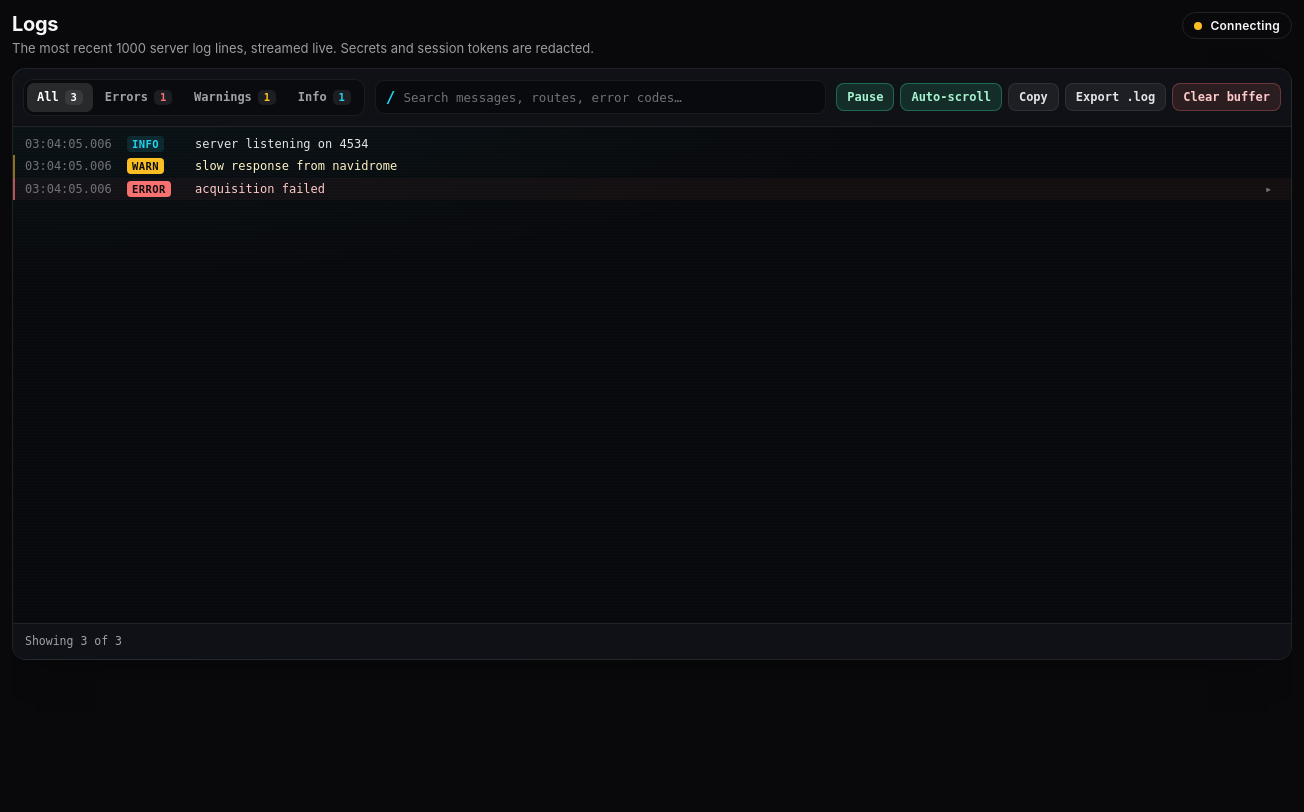
Test case: filters by level and search text
Expected: the text "server listening on 4534" is shown, [195,136,368,150]
Click the button "Errors 1". click: click(138, 97)
box: [95,83,182,112]
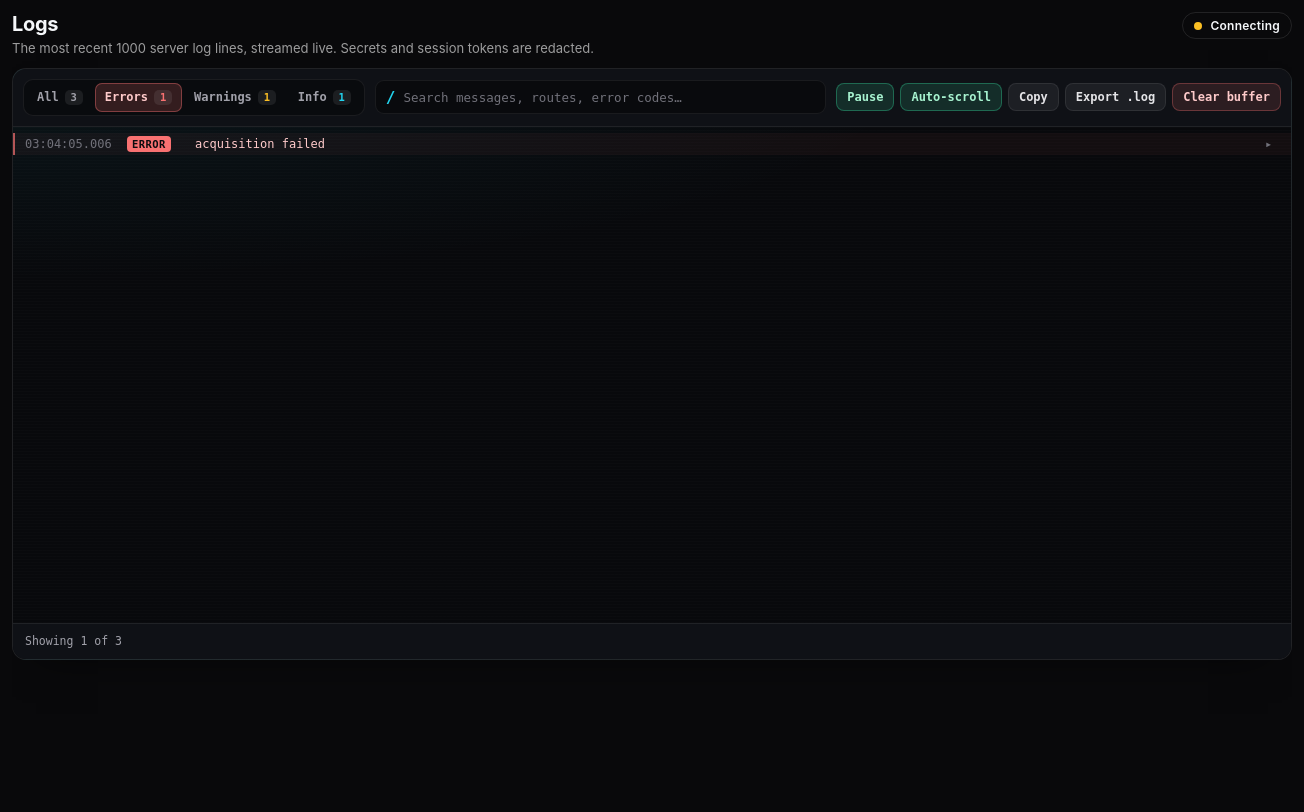
Expected: the text "acquisition failed" is shown, [195,136,325,150]
Result: the number of list items is 1 at [13,132,1291,155]
Click the button "All 3". click: click(60, 97)
box: [27,83,93,112]
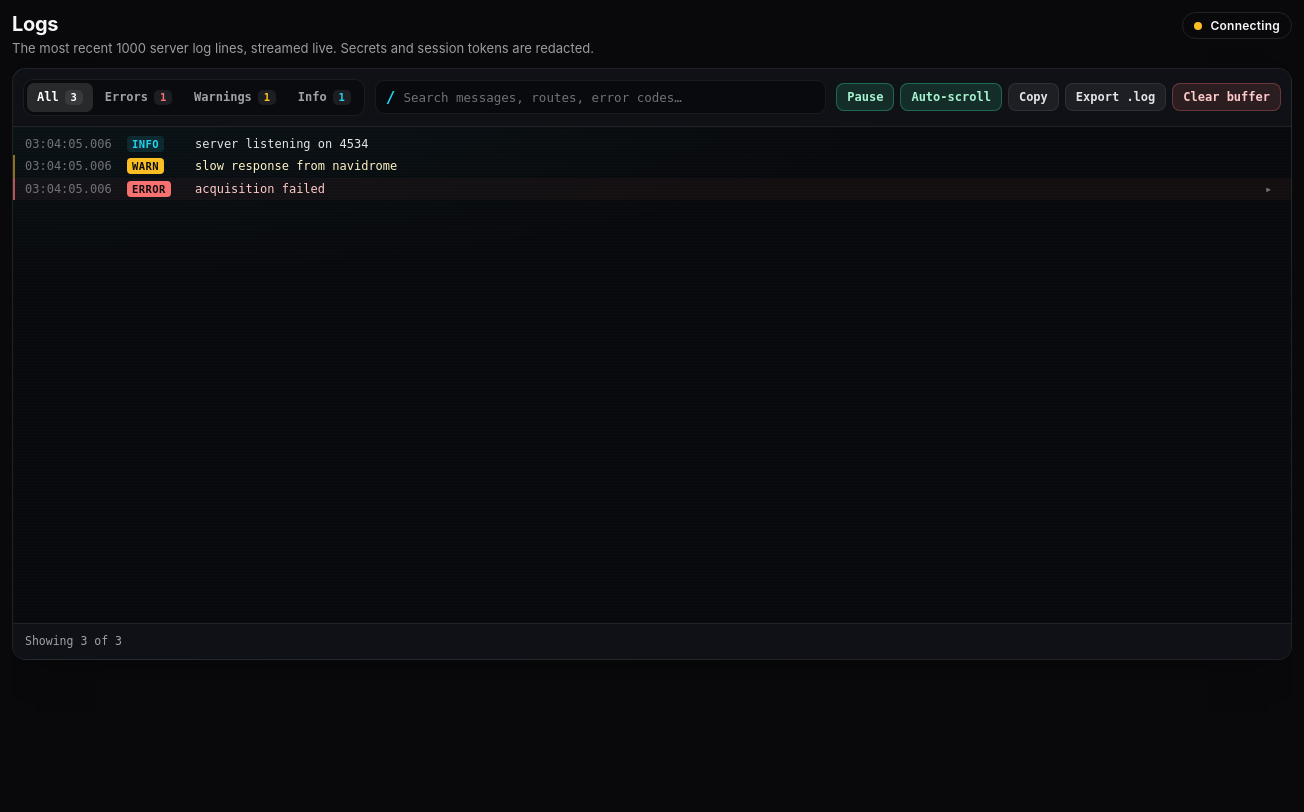
Type "navidrome" into the search field named "Search logs". click: (609, 97)
box: [403,81,815,113]
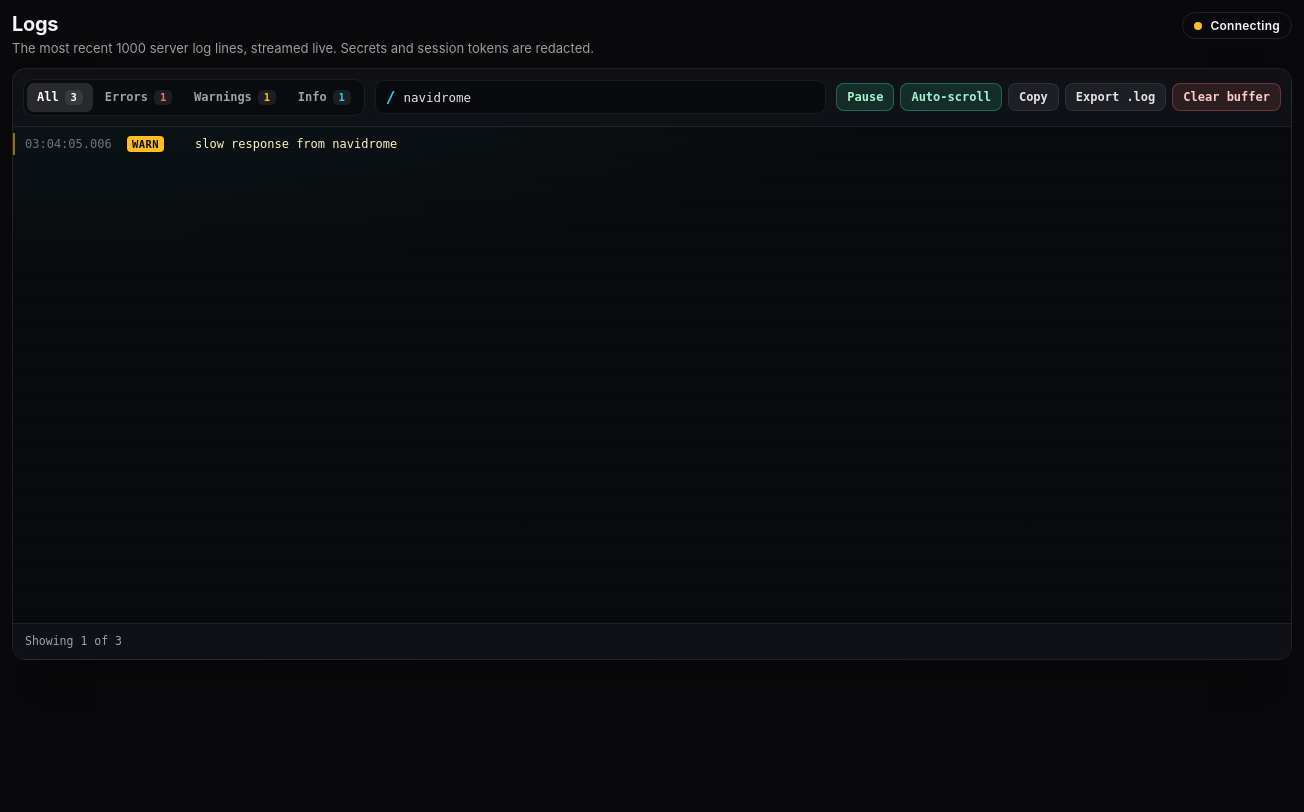
Result: the text "slow response from navidrome" is shown at [195,136,397,150]
Result: the number of list items is 1 at [13,132,1291,155]
Replace the text in the search field named "Search logs" with "job-9". click: (609, 97)
box: [403,81,815,113]
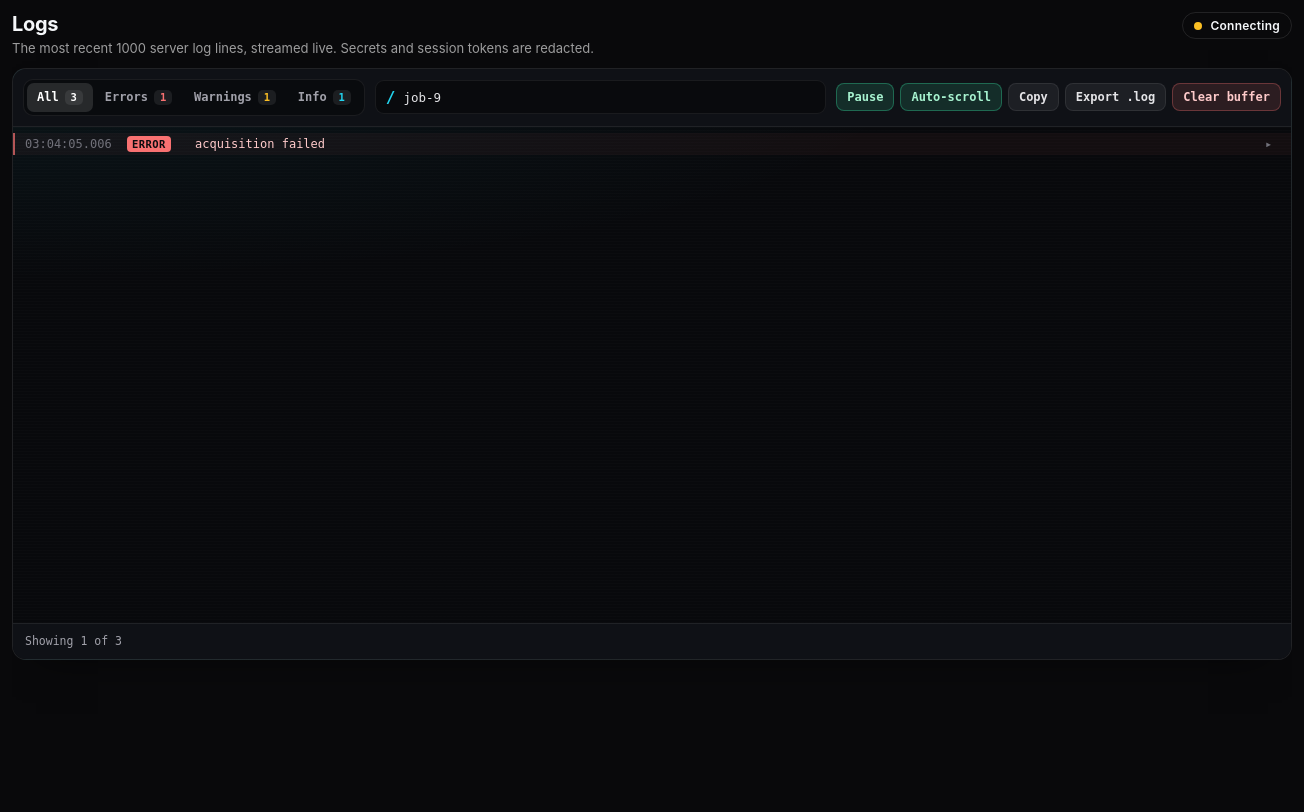
Result: the number of list items is 1 at [13,132,1291,155]
Result: the text "acquisition failed" is shown at [195,136,325,150]
